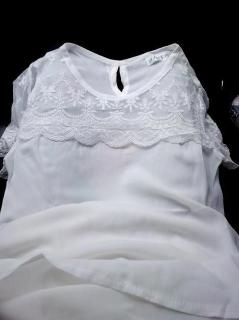short sleeve top: (0, 43, 239, 319)
